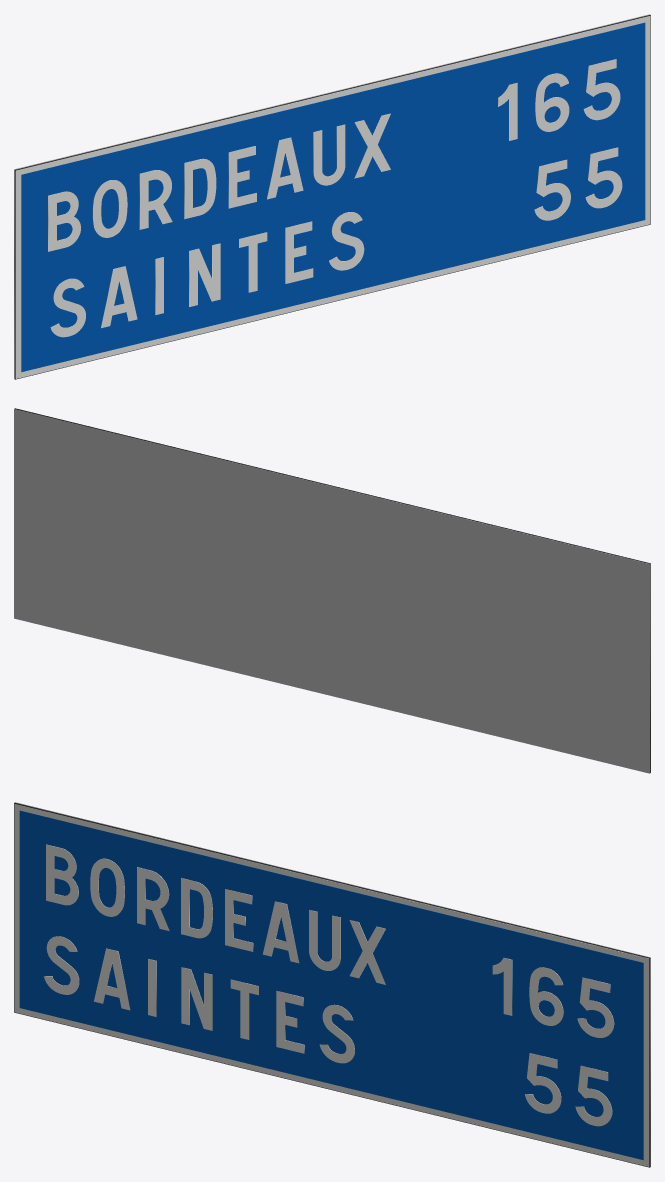
3 views of the same model, one above another, from view 1: azimuth 30°, elevation 25°; view 2: azimuth 150°, elevation 25°; view 3: azimuth 330°, elevation 25° (orthographic).
Visible parts, largest first — view 1: D61b_p02, D61b_p01, D61b_p00, D61b_p17, D61b_p03, D61b_p05, D61b_p12, D61b_p06, D61b_p15, D61b_p09, D61b_p04, D61b_p08 (+11 smaller); view 2: D61b_dos, D61b_p00; view 3: D61b_p02, D61b_p01, D61b_p00, D61b_p17, D61b_p03, D61b_p05, D61b_p12, D61b_p06, D61b_p15, D61b_p08, D61b_p13, D61b_p21 (+11 smaller).
Part boxes in pixels (box(x1,y1,x2,y2)): D61b_p02: box(21, 22, 645, 372); D61b_p01: box(15, 15, 650, 378); D61b_p00: box(14, 15, 650, 379); D61b_p17: box(189, 243, 220, 306); D61b_p03: box(48, 191, 80, 251); D61b_p05: box(139, 170, 172, 229); D61b_p12: box(535, 73, 569, 131); D61b_p06: box(184, 158, 216, 219); D61b_p15: box(101, 266, 137, 328); D61b_p09: box(313, 124, 345, 185); D61b_p04: box(92, 180, 127, 237); D61b_p08: box(267, 137, 303, 199); D61b_dos: box(14, 409, 650, 773); D61b_p00: box(14, 408, 650, 772); D61b_p02: box(19, 810, 643, 1160); D61b_p01: box(14, 803, 649, 1166); D61b_p00: box(14, 803, 650, 1167); D61b_p17: box(181, 967, 212, 1030); D61b_p03: box(46, 844, 78, 905); D61b_p05: box(137, 867, 169, 930); D61b_p12: box(529, 967, 563, 1025); D61b_p06: box(181, 878, 212, 938); D61b_p15: box(94, 948, 130, 1010); D61b_p08: box(262, 901, 299, 963); D61b_p13: box(577, 977, 614, 1037); D61b_p21: box(525, 1053, 561, 1113).
Bounding box in the file's own units: 0.7 × 0.2205 × 0.0107.
